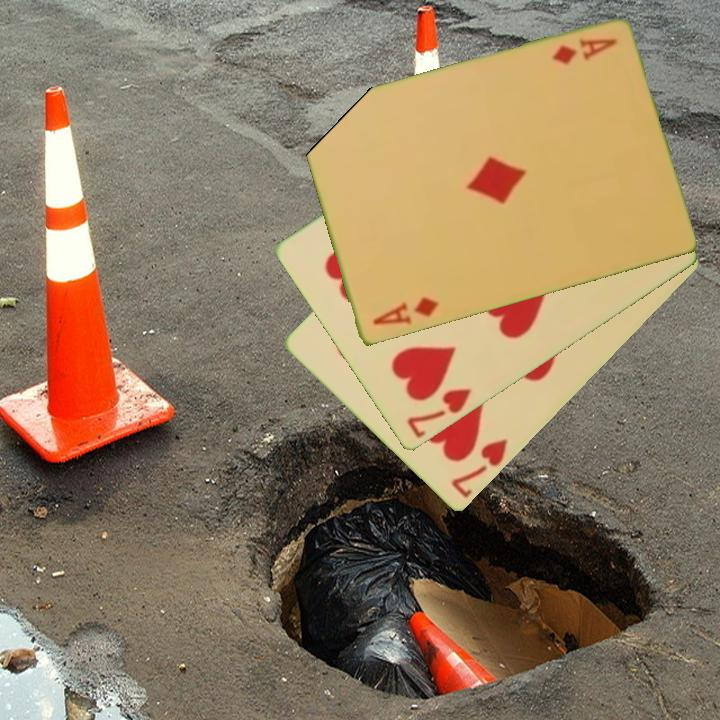7h: (448, 435, 511, 502), (403, 385, 474, 442)
Ad: (369, 294, 441, 329), (548, 35, 620, 68)
